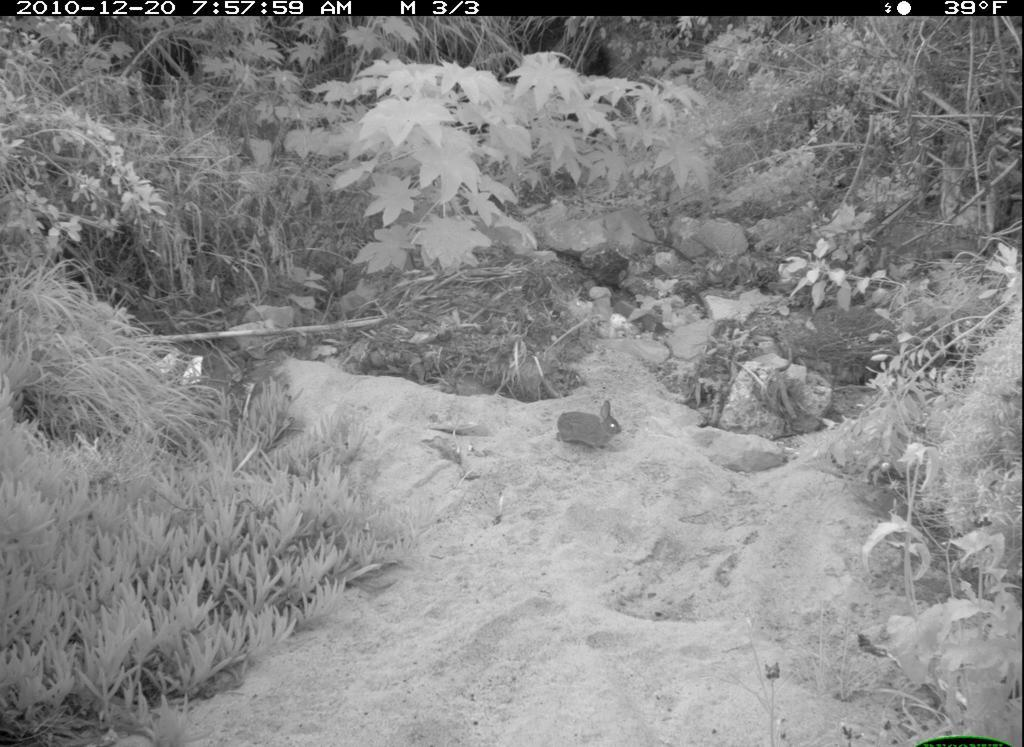rabbit: (542, 387, 651, 469)
